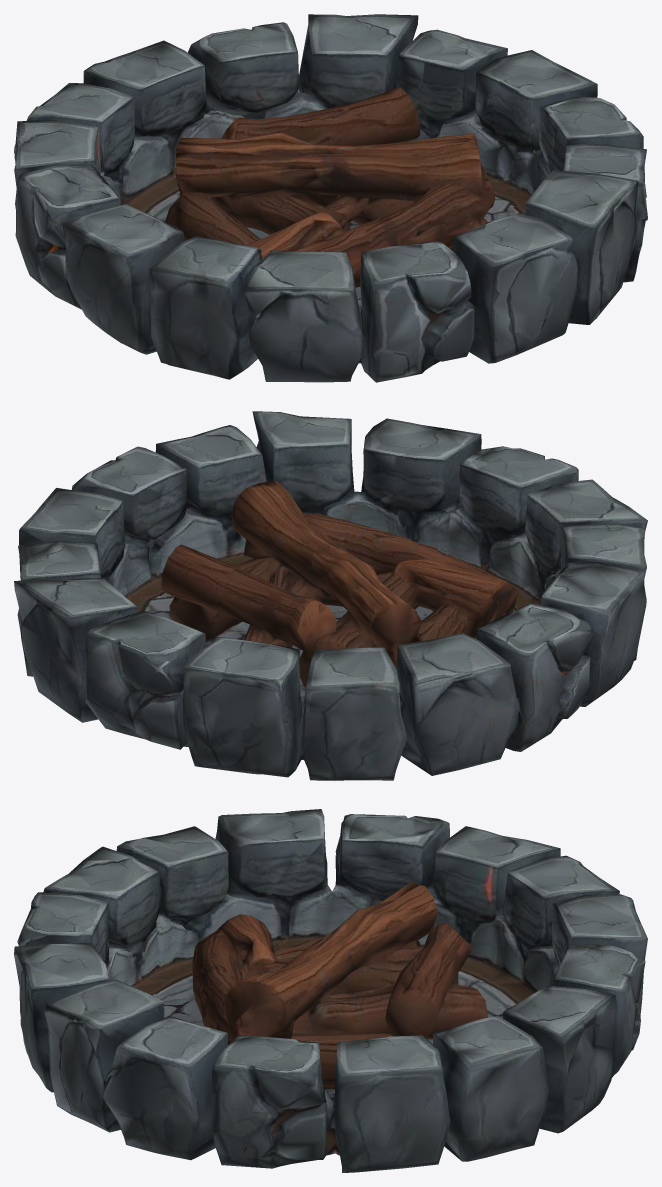
The model's file is campfire.glb.
The picture shows the model from 3 angles, top to bottom: view 1: azimuth 30°, elevation 25°; view 2: azimuth 150°, elevation 25°; view 3: azimuth 270°, elevation 25°; orthographic projection.
Size of the model in its own units: 1.89 by 0.3976 by 1.9.
1 material, 1 textured.
